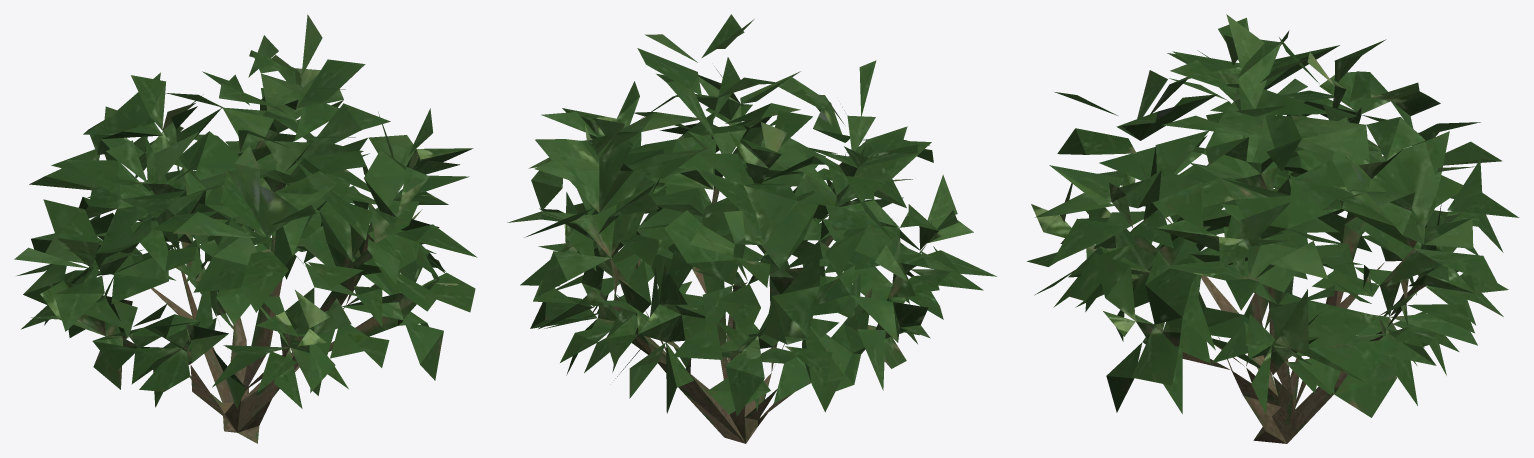
Rendered from bush.glb.
3 views of the same model, side by side, from view 1: azimuth 30°, elevation 25°; view 2: azimuth 150°, elevation 25°; view 3: azimuth 270°, elevation 25° (orthographic). The views are drawn at different scales.
Parts seen in each view (by area): view 1: output_unwrapped; view 2: output_unwrapped; view 3: output_unwrapped.
Part boxes in pixels (bbox=[...]): output_unwrapped: bbox=[14, 14, 477, 443]; output_unwrapped: bbox=[507, 14, 996, 443]; output_unwrapped: bbox=[1027, 14, 1519, 443].
Size of the model in its own units: 1.71 by 1.5 by 1.56.
1 material, 1 textured.
